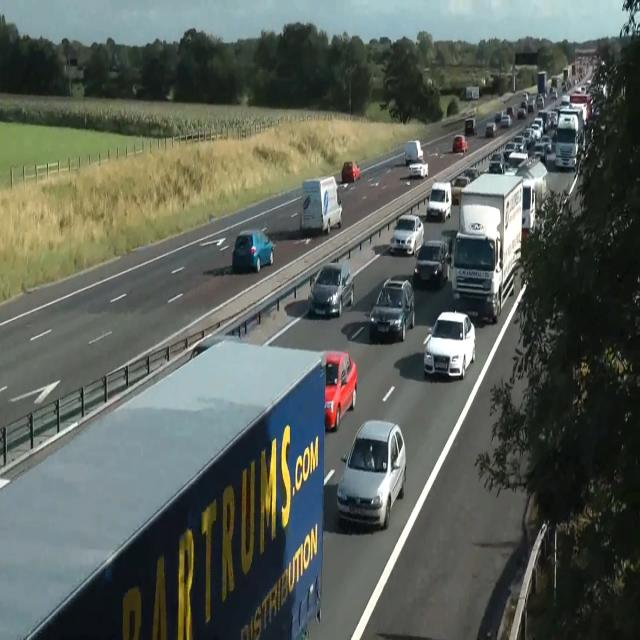bus: (336, 418, 406, 530), (422, 310, 476, 380), (320, 349, 358, 432), (308, 262, 354, 318), (232, 229, 274, 273), (390, 213, 424, 256), (190, 333, 240, 361), (450, 176, 470, 204), (408, 158, 428, 179), (341, 160, 360, 182), (489, 151, 505, 173), (452, 134, 468, 153), (462, 167, 480, 181), (465, 117, 477, 135), (485, 122, 497, 137)
jeep: (369, 276, 415, 342), (414, 238, 448, 286), (426, 180, 452, 222)
minibus: (0, 338, 326, 639), (447, 172, 524, 322), (300, 175, 343, 235), (554, 108, 584, 170), (405, 140, 423, 166), (537, 70, 547, 96), (466, 86, 480, 100)
